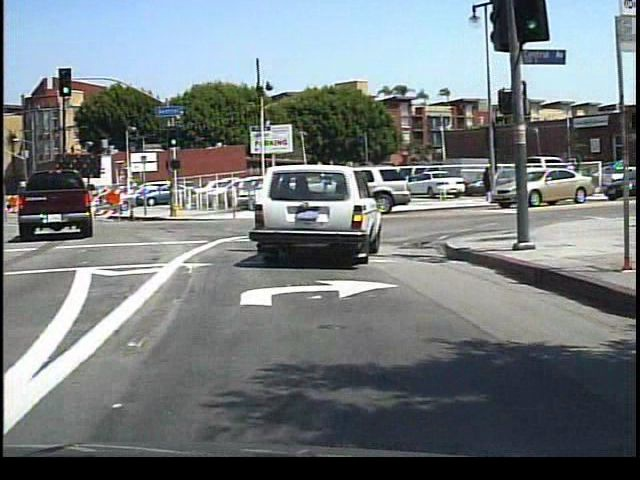person: (479, 162, 490, 196)
